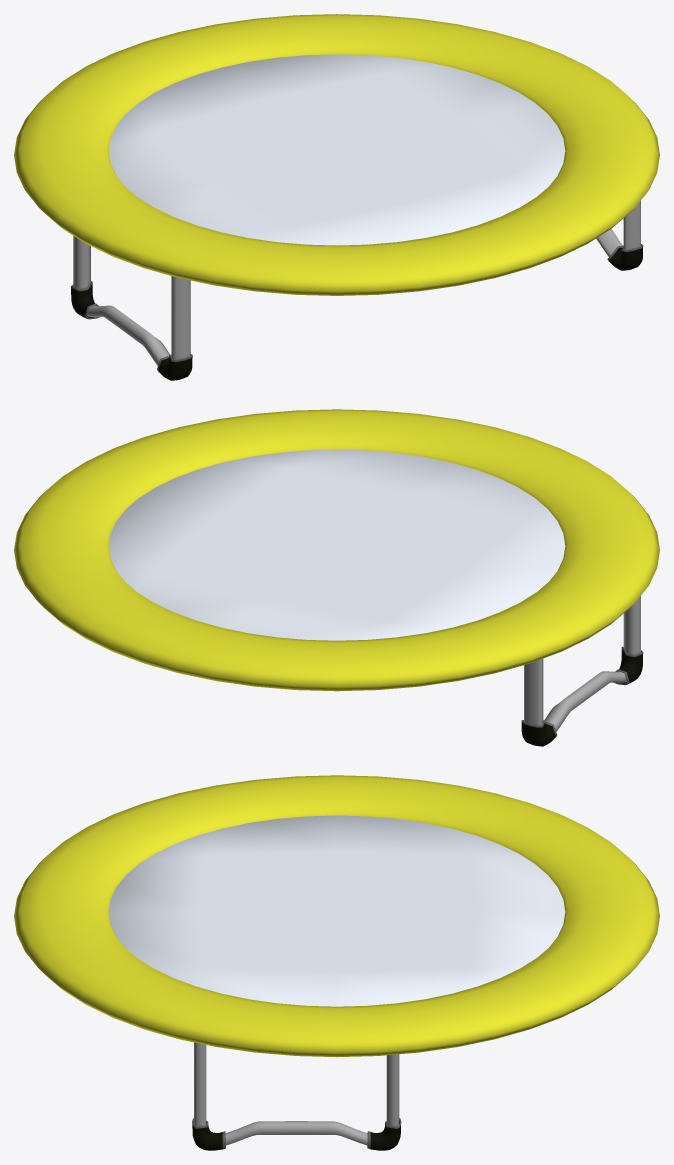
The model's file is trampoline_yellow.glb.
The picture shows the model from 3 angles, top to bottom: view 1: azimuth 30°, elevation 25°; view 2: azimuth 150°, elevation 25°; view 3: azimuth 270°, elevation 25°; orthographic projection.
Parts seen in each view (by area): view 1: Circle.003, BezierCurve.003_Mesh.002, BezierCurve.003_Mesh.003; view 2: Circle.003, BezierCurve.003_Mesh.002, BezierCurve.003_Mesh.003; view 3: Circle.003, BezierCurve.003_Mesh.002, BezierCurve.003_Mesh.003.
Part boxes in pixels (x1=…): Circle.003: x1=14, y1=14, x2=659, y2=295; BezierCurve.003_Mesh.002: x1=73, y1=201, x2=640, y2=365; BezierCurve.003_Mesh.003: x1=71, y1=244, x2=643, y2=380; Circle.003: x1=14, y1=409, x2=659, y2=691; BezierCurve.003_Mesh.002: x1=524, y1=596, x2=640, y2=731; BezierCurve.003_Mesh.003: x1=521, y1=646, x2=643, y2=746; Circle.003: x1=14, y1=775, x2=659, y2=1057; BezierCurve.003_Mesh.002: x1=194, y1=1042, x2=399, y2=1145; BezierCurve.003_Mesh.003: x1=192, y1=1118, x2=401, y2=1150.
Size of the model in its own units: 1.71 by 0.3992 by 1.71.
